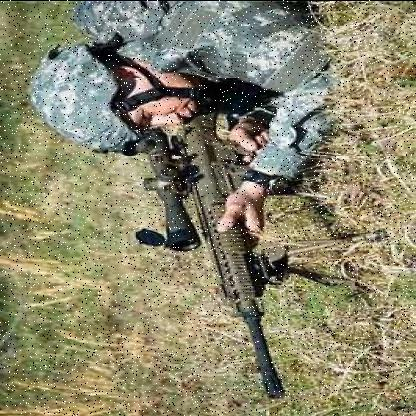rifle: (125, 81, 319, 395)
